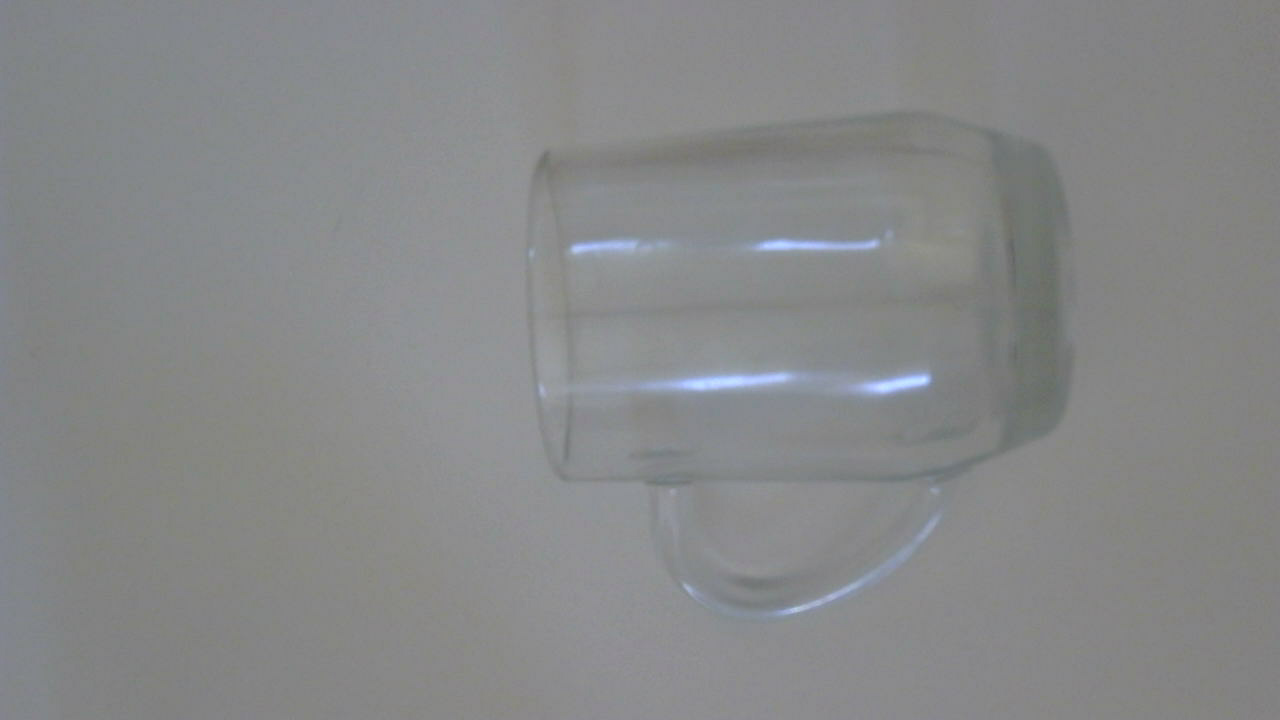Glass: (512, 108, 1102, 642)
